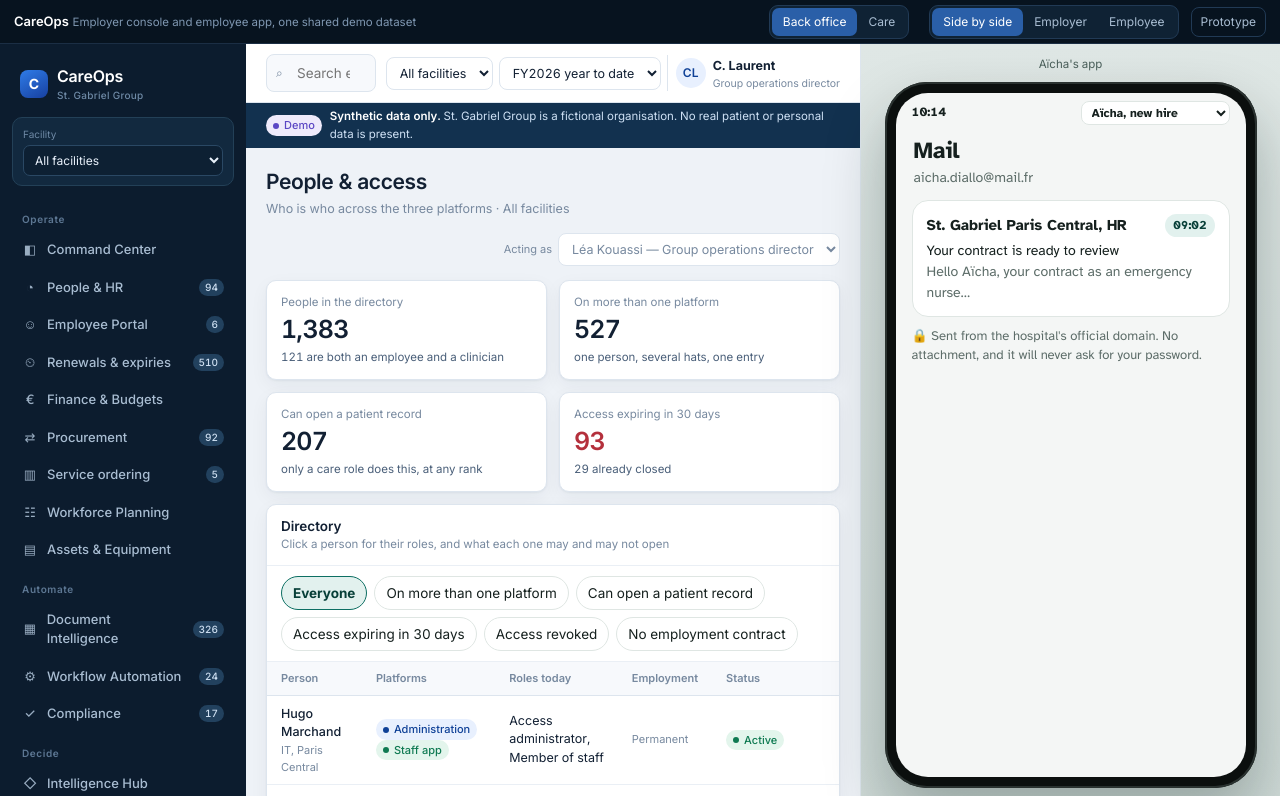
Test: people and access › refuses to let the operations director grant a role, and says why
The width and height of the screenshot is (1280, 796).
Check: the heading "Directory" is shown, box [281,518,342,534]
Click the row that starts with "Hugo Marchand". click: [586, 740]
box: [267,695,906,784]
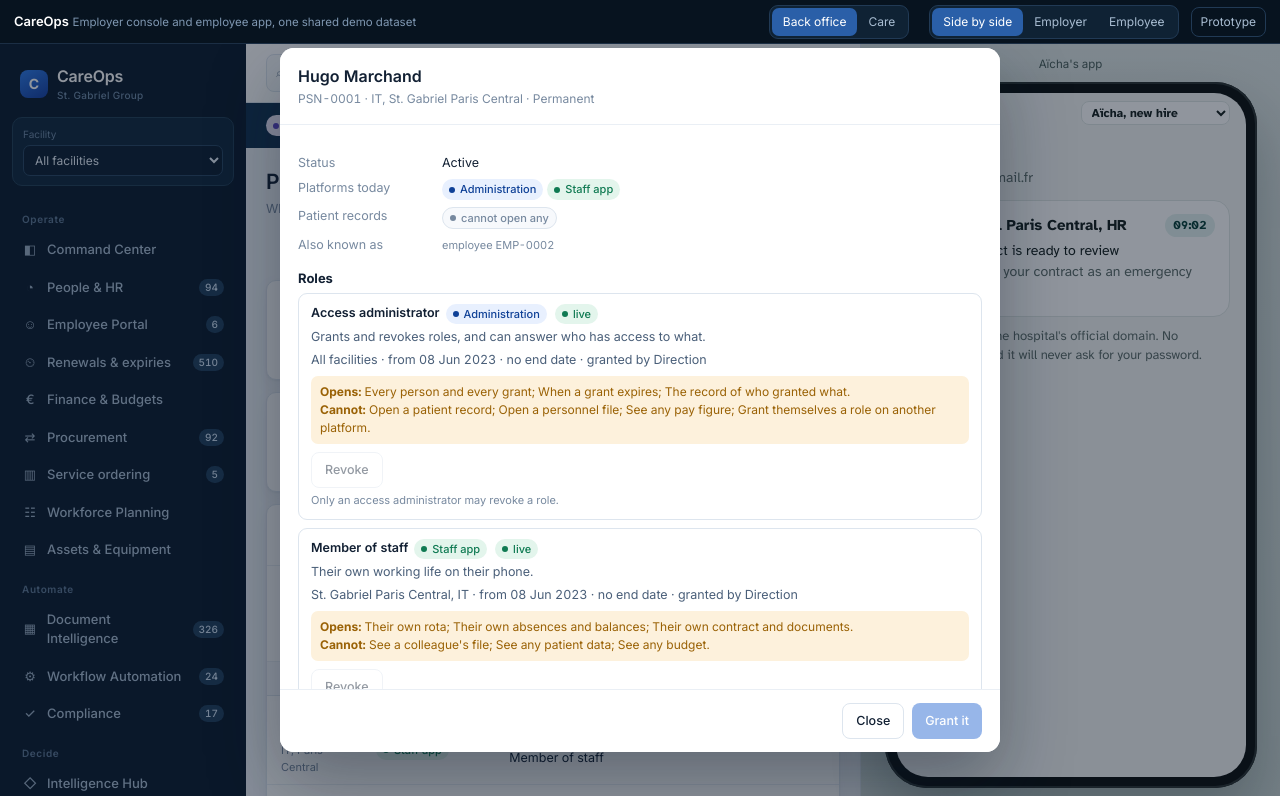
Check: the button "Grant it" is disabled, box [912,702,982,739]
